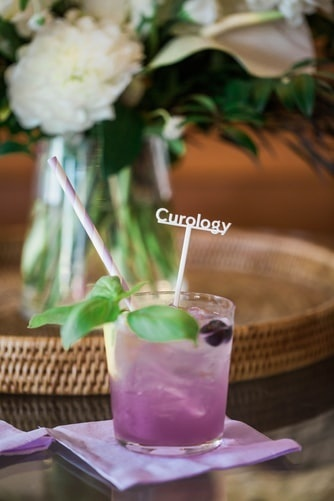whiskey: (111, 292, 232, 450)
